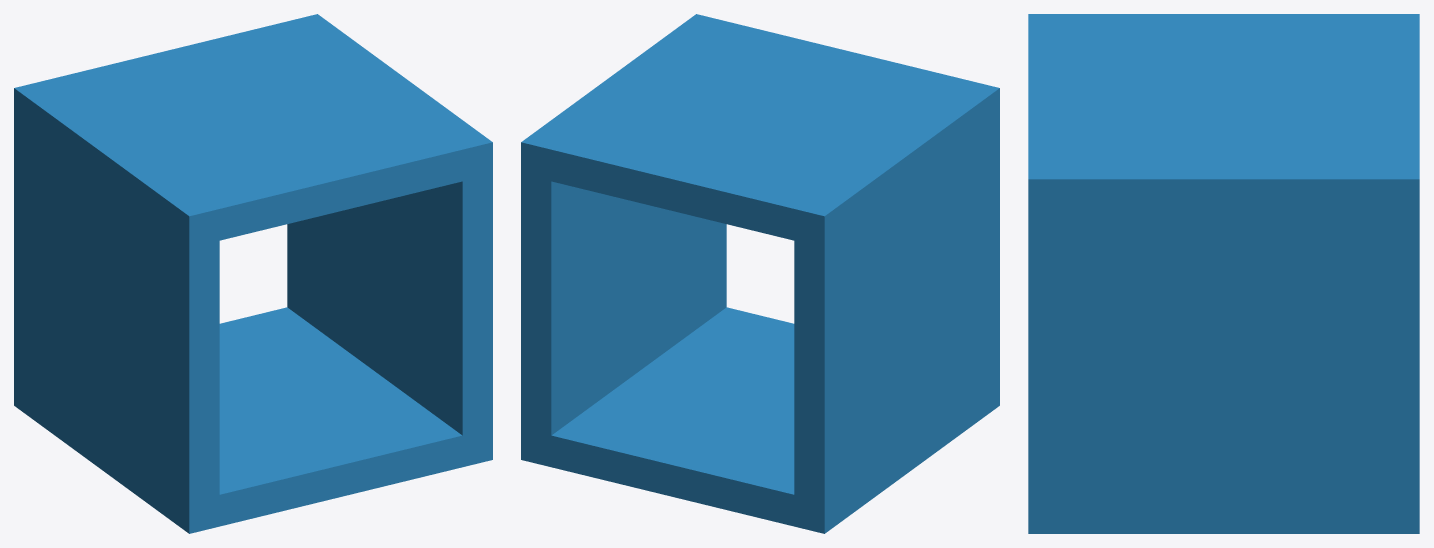
Rendered from CubePlayerA.fbx.
The picture shows the model from 3 angles, left to right: view 1: azimuth 30°, elevation 25°; view 2: azimuth 150°, elevation 25°; view 3: azimuth 270°, elevation 25°; orthographic projection. The views are drawn at different scales.
Visible parts, largest first — view 1: CubeA; view 2: CubeA; view 3: CubeA.
Boxes of the visible parts, x1=… form: CubeA: x1=14, y1=14, x2=492, y2=533; CubeA: x1=521, y1=14, x2=999, y2=533; CubeA: x1=1028, y1=14, x2=1419, y2=533.
Bounding box in the file's own units: 200 × 200 × 200.
